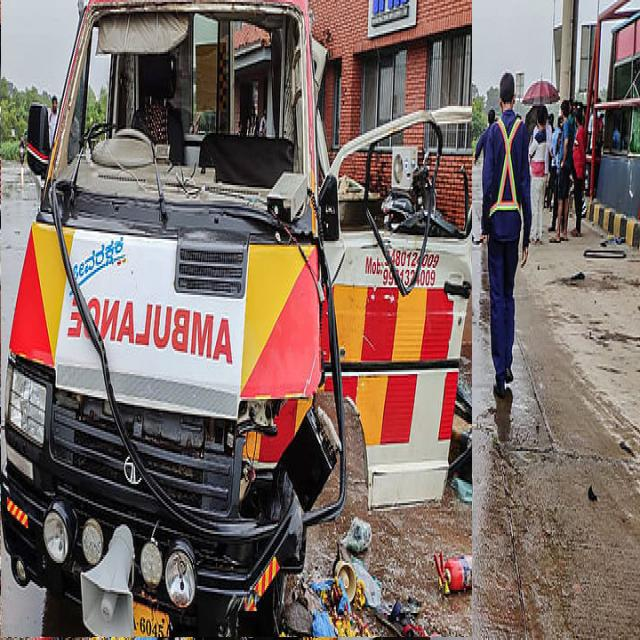accident: (1, 0, 471, 637)
